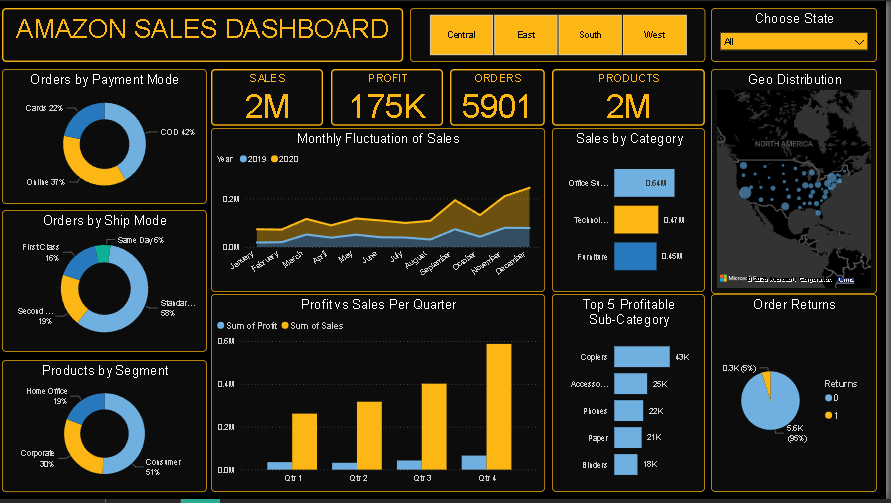

What the dashboard file says about the page in this screenshot:
{"tool":"powerbi","page":{"name":"Page 1","canvas":[1280,720],"ordinal":0},"visuals":[{"type":"clusteredBarChart","title":"Sales by Category","fields":{"Category":["Sheet1.Category"],"Y":["Sum(Sheet1.Sales)"]},"box":[798.1,183.6,221.2,237.1],"z":0},{"type":"clusteredBarChart","title":"Top 5 Profitable Sub-Category","fields":{"Category":["Sheet1.Sub-Category"],"Y":["Sum(Sheet1.Profit)"]},"box":[798.1,423.6,221.2,286.3],"z":1000},{"type":"donutChart","title":"Orders by Payment Mode","fields":{"Category":["Sheet1.Payment Mode"],"Y":["CountNonNull(Sheet1.Order ID)"]},"box":[2.9,98.3,296.4,195.2],"z":2000},{"type":"donutChart","title":"Orders by Ship Mode","fields":{"Y":["CountNonNull(Sheet1.Order ID)"],"Category":["Sheet1.Ship Mode"]},"box":[2.9,302.2,296.4,205.3],"z":3000},{"type":"donutChart","title":"Products by Segment","fields":{"Category":["Sheet1.Segment"],"Y":["CountNonNull(Sheet1.Product ID)"]},"box":[2.9,519,296.4,190.8],"z":4000},{"type":"map","title":"Geo Distribution","fields":{"Category":["Sheet1.State"],"Size":["Sum(Sheet1.Sales)"]},"box":[1028,98.3,240,325.3],"z":5000},{"type":"pieChart","title":"Order Returns","fields":{"Category":["Sheet1.Returns"],"Y":["CountNonNull(Sheet1.Order ID)"]},"box":[1028,423.6,240,286.3],"z":6000},{"type":"stackedAreaChart","title":"Monthly Fluctuation of Sales","fields":{"Category":["Sheet1.Order Date.Variation.Date Hierarchy.Month"],"Y":["Sum(Sheet1.Sales)"],"Series":["Sheet1.Order Date.Variation.Date Hierarchy.Year"]},"box":[305.1,183.6,482.9,237.1],"z":7000},{"type":"clusteredColumnChart","title":"Profit vs Sales Per Quarter","fields":{"Category":["Sheet1.Order Date.Variation.Date Hierarchy.Quarter"],"Y":["Sum(Sheet1.Profit)","Sum(Sheet1.Sales)"]},"box":[305.1,423.6,482.9,286.3],"z":8000},{"type":"slicer","fields":{"Values":["Sheet1.Region"]},"box":[592.8,10.1,426.5,78.1],"z":9000},{"type":"slicer","title":"Choose State","fields":{"Values":["Sheet1.State"]},"box":[1028,10.1,240,78.1],"z":10000},{"type":"card","title":"SALES","fields":{"Values":["Sum(Sheet1.Sales)"]},"box":[305.1,98.3,161.9,82.4],"z":11000},{"type":"card","title":"PROFIT","fields":{"Values":["Sum(Sheet1.Profit)"]},"box":[478.6,98.3,161.9,82.4],"z":12000},{"type":"card","title":"ORDERS","fields":{"Values":["CountNonNull(Sheet1.Order ID)"]},"box":[650.6,98.3,137.3,82.4],"z":13000},{"type":"card","title":"PRODUCTS","fields":{"Values":["Sum(Sheet1.Sales)"]},"box":[798.1,98.3,221.2,82.4],"z":14000},{"type":"textbox","box":[2.9,10.1,579.8,78.1],"z":15000}]}

Visuals, with their boxes in screenshot pixels (x1, y1, x2, y2), scaled from the page's 1280x720 canvas onto the 891x503 screenshot:
"Sales by Category" clusteredBarChart: (left=556, top=128, right=710, bottom=294)
"Top 5 Profitable Sub-Category" clusteredBarChart: (left=556, top=296, right=710, bottom=496)
"Orders by Payment Mode" donutChart: (left=2, top=69, right=208, bottom=205)
"Orders by Ship Mode" donutChart: (left=2, top=211, right=208, bottom=355)
"Products by Segment" donutChart: (left=2, top=363, right=208, bottom=496)
"Geo Distribution" map: (left=716, top=69, right=883, bottom=296)
"Order Returns" pieChart: (left=716, top=296, right=883, bottom=496)
"Monthly Fluctuation of Sales" stackedAreaChart: (left=212, top=128, right=549, bottom=294)
"Profit vs Sales Per Quarter" clusteredColumnChart: (left=212, top=296, right=549, bottom=496)
slicer - Sheet1.Region: (left=413, top=7, right=710, bottom=62)
"Choose State" slicer: (left=716, top=7, right=883, bottom=62)
"SALES" card: (left=212, top=69, right=325, bottom=126)
"PROFIT" card: (left=333, top=69, right=446, bottom=126)
"ORDERS" card: (left=453, top=69, right=548, bottom=126)
"PRODUCTS" card: (left=556, top=69, right=710, bottom=126)
textbox: (left=2, top=7, right=406, bottom=62)
